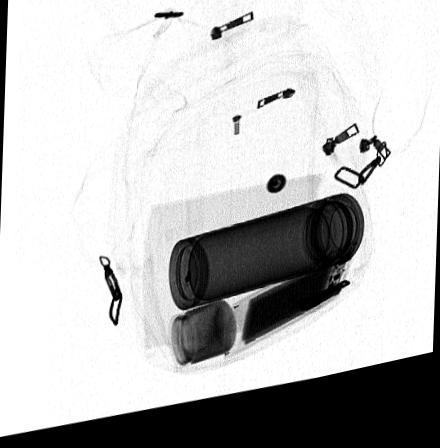Powerbank: (222, 257, 353, 371)
